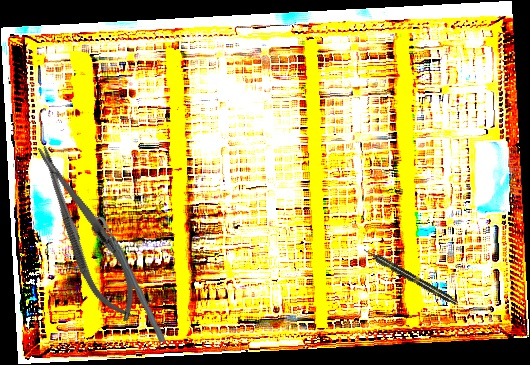Chopper: (91, 211, 168, 346)
Handpiece: (361, 245, 460, 308)
Needle Holder: (20, 135, 153, 331)
